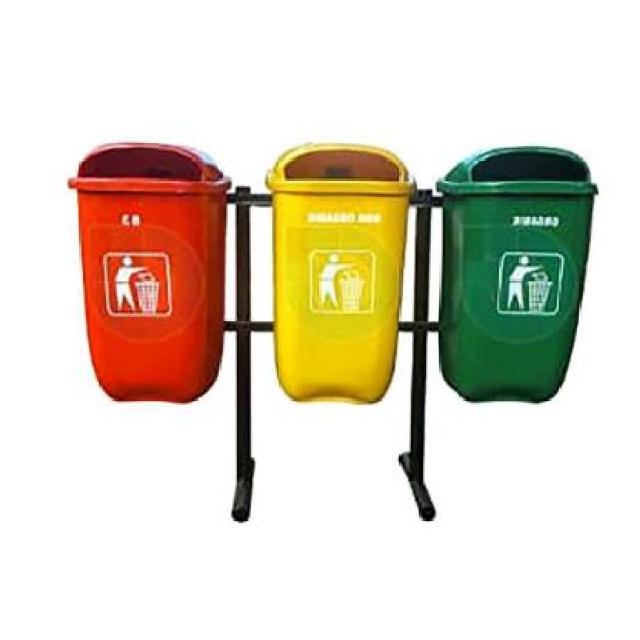garbage container: (428, 138, 610, 422), (62, 129, 240, 413), (260, 131, 428, 418)
